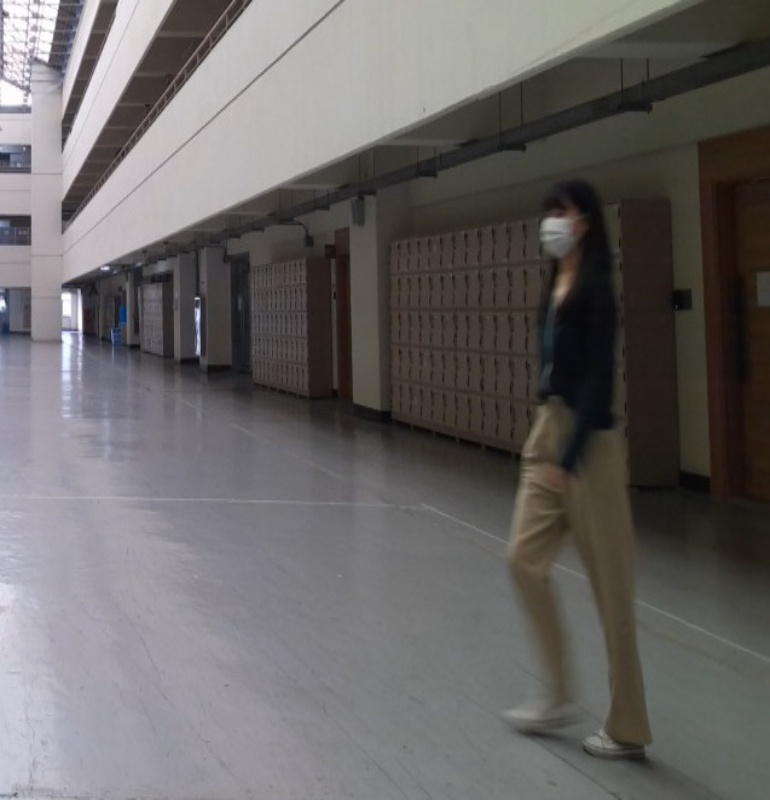person: (500, 175, 657, 762)
